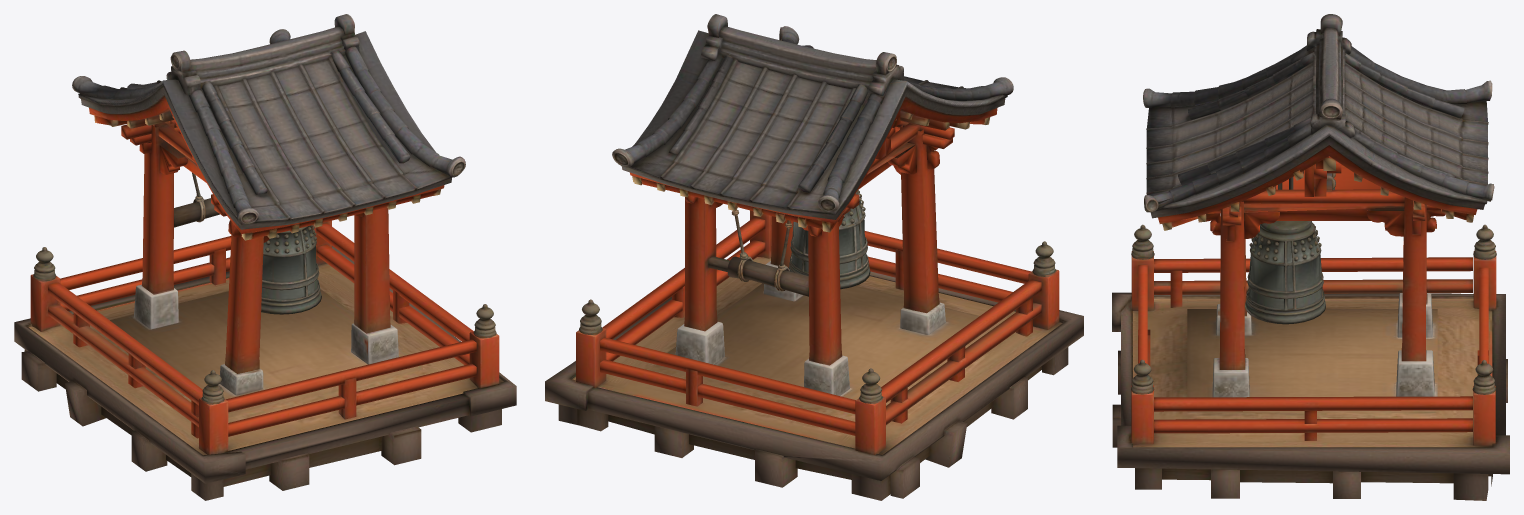
File: bell_pavilion.glb
3 views of the same model, side by side, from view 1: azimuth 30°, elevation 25°; view 2: azimuth 150°, elevation 25°; view 3: azimuth 270°, elevation 25° (orthographic). The views are drawn at different scales.
Visible parts, largest first — view 1: tripo_node_7a79ff4c-f0dc-41cf-a68a-1077a168c2ff; view 2: tripo_node_7a79ff4c-f0dc-41cf-a68a-1077a168c2ff; view 3: tripo_node_7a79ff4c-f0dc-41cf-a68a-1077a168c2ff.
Part boxes in pixels (x1,y1,x2,y2): tripo_node_7a79ff4c-f0dc-41cf-a68a-1077a168c2ff: (14, 14, 516, 500); tripo_node_7a79ff4c-f0dc-41cf-a68a-1077a168c2ff: (545, 14, 1083, 500); tripo_node_7a79ff4c-f0dc-41cf-a68a-1077a168c2ff: (1112, 14, 1509, 500).
Bounding box in the file's own units: 0.9653 × 0.9995 × 0.979.
1 material, 1 textured.
